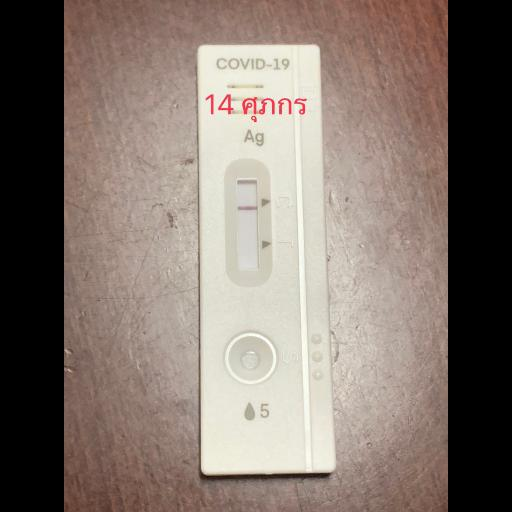Neg: (198, 44, 334, 474)
